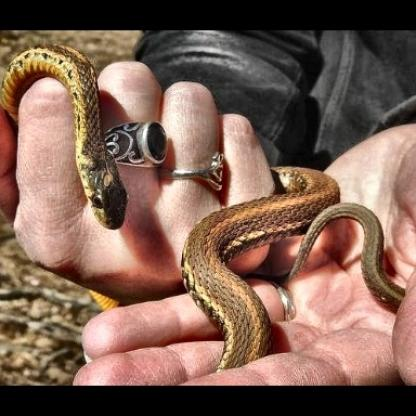Snake: (0, 39, 392, 376), (0, 39, 147, 226)
